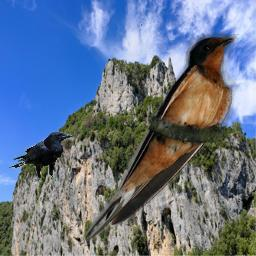Crow: (9, 131, 74, 182)
Swallow: (78, 31, 240, 242)
